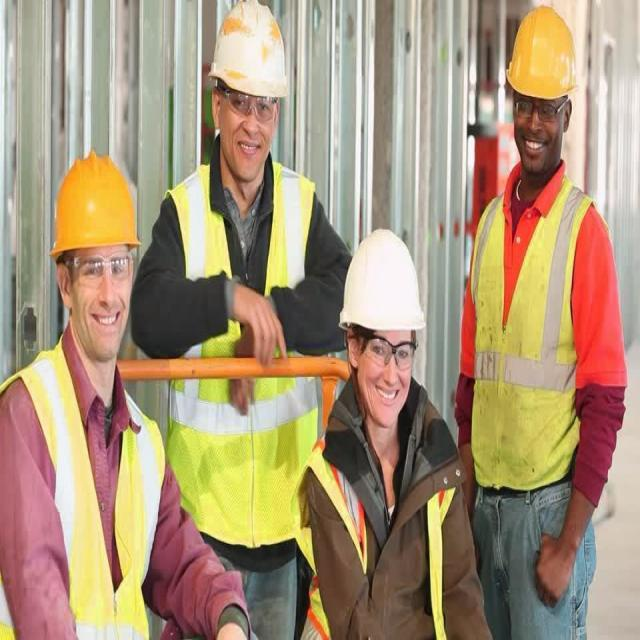face_nomask: (67, 241, 134, 360), (350, 328, 419, 418), (219, 100, 281, 178), (510, 97, 567, 179)
glasses: (70, 247, 136, 291), (362, 325, 419, 371), (221, 86, 280, 127), (513, 97, 560, 125)
hand_noglove: (228, 276, 288, 376), (534, 532, 577, 613)
head_helmet: (336, 220, 431, 333), (52, 151, 145, 251), (211, 2, 286, 100), (504, 6, 579, 102)
person: (146, 1, 338, 640), (464, 6, 626, 640), (0, 151, 172, 640), (306, 224, 463, 640)
vest: (167, 166, 318, 533), (0, 354, 163, 640), (470, 180, 597, 487), (316, 416, 456, 640)
